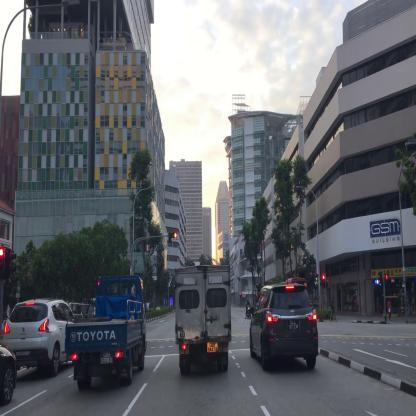red_traffic_light: (168, 233, 177, 237)
